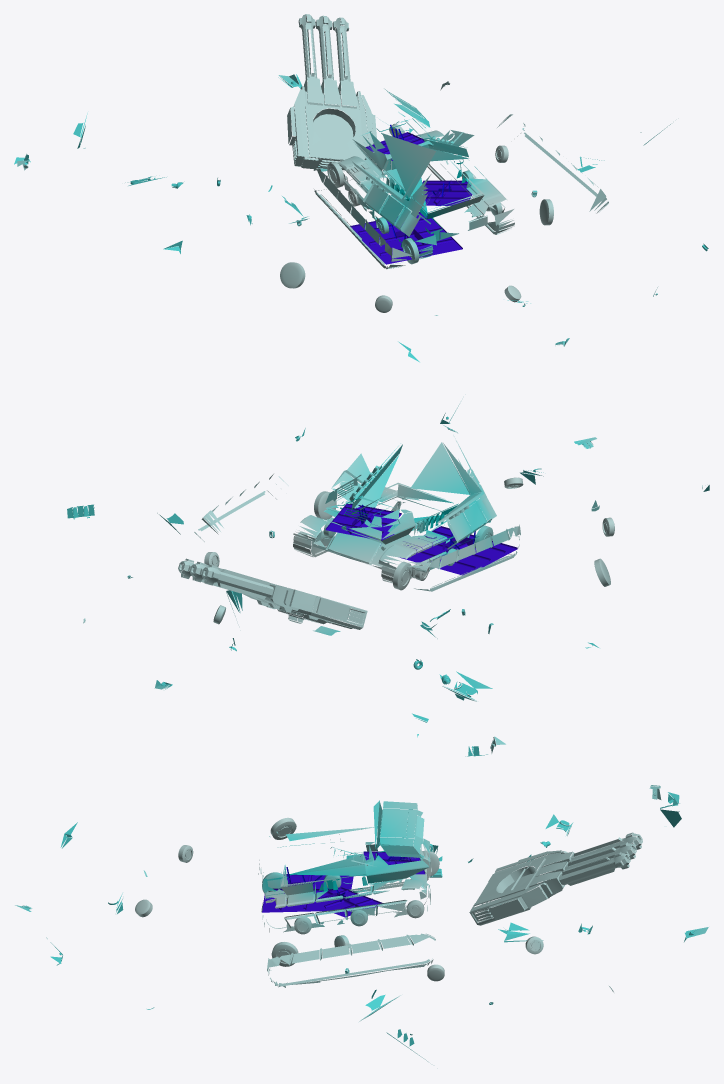
File: vedette_wreck.glb
The picture shows the model from 3 angles, top to bottom: view 1: azimuth 30°, elevation 25°; view 2: azimuth 150°, elevation 25°; view 3: azimuth 270°, elevation 25°; orthographic projection. The views are drawn at different scales.
Parts seen in each view (by area): view 1: Vedette Turret, Vedette Body, Vedette Body_plate (×2), frame (×2), wrecked_track_r, wrecked_track_l, wrecked_wheel_l0; view 2: Vedette Body, Vedette Body_plate (×2), Vedette Turret, frame (×2), wrecked_track_r; view 3: Vedette Turret, Vedette Body, Vedette Body_plate (×2), wrecked_track_l, frame (×2).
Boxes of the visible parts, x1,y1,x2,y2 form: Vedette Turret: [287, 14, 376, 171]; Vedette Body: [337, 118, 514, 259]; Vedette Body_plate (×2): [352, 130, 474, 236]; frame (×2): [350, 180, 472, 264]; wrecked_track_r: [313, 166, 412, 269]; wrecked_track_l: [497, 114, 608, 213]; wrecked_wheel_l0: [280, 262, 305, 288]; Vedette Body: [293, 482, 490, 583]; Vedette Body_plate (×2): [331, 435, 496, 549]; Vedette Turret: [178, 558, 367, 629]; frame (×2): [325, 503, 517, 575]; wrecked_track_r: [407, 524, 520, 591]; Vedette Turret: [469, 832, 642, 925]; Vedette Body: [261, 835, 431, 932]; Vedette Body_plate (×2): [269, 800, 424, 857]; wrecked_track_l: [267, 933, 435, 987]; frame (×2): [262, 874, 382, 917].
Size of the model in its own units: 24.72 by 4.85 by 26.39.
